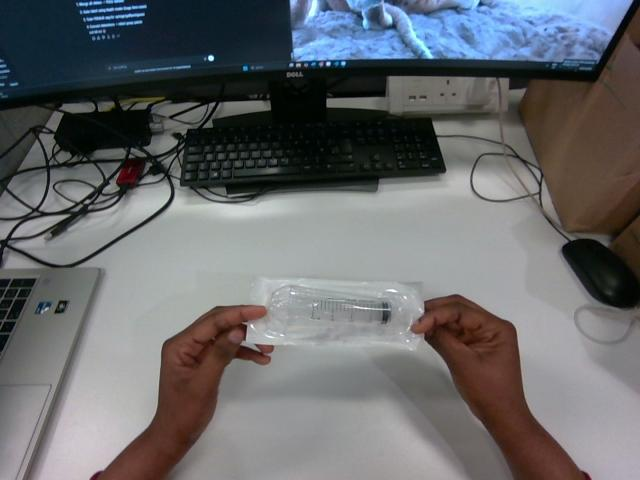syringe: (246, 277, 423, 349)
